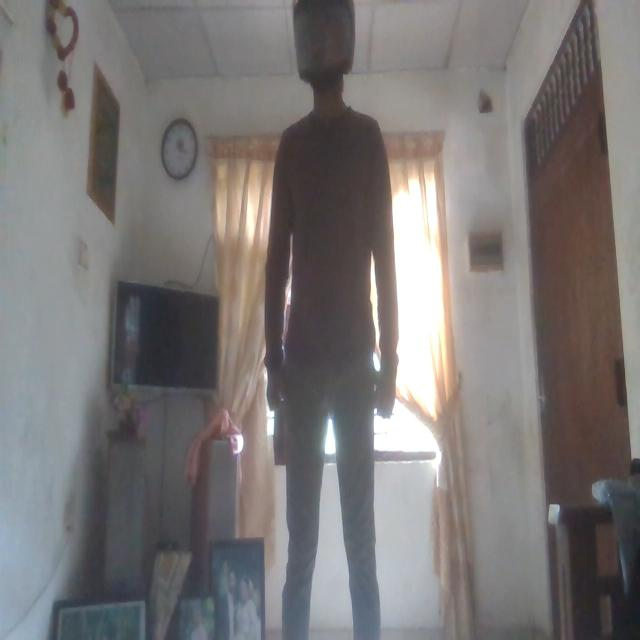Helmet_Wearer: (284, 0, 358, 116)
Person: (264, 0, 401, 640)
